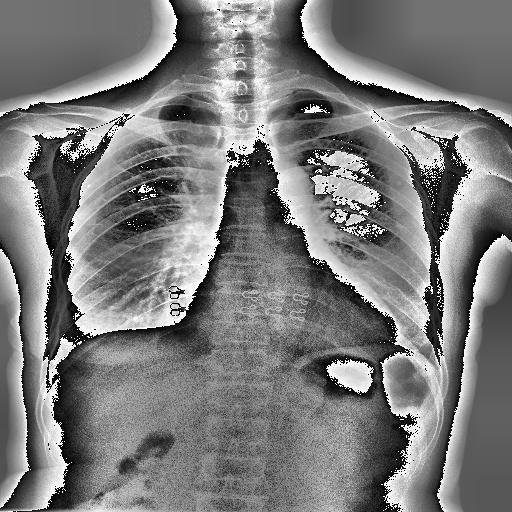2- Calcification: (395, 182, 404, 186)
3- Cardiomegaly: (181, 263, 401, 346), (180, 270, 399, 347)
8- Nodule-Mass: (395, 180, 402, 185)
9- Other lesion: (71, 244, 185, 322)
